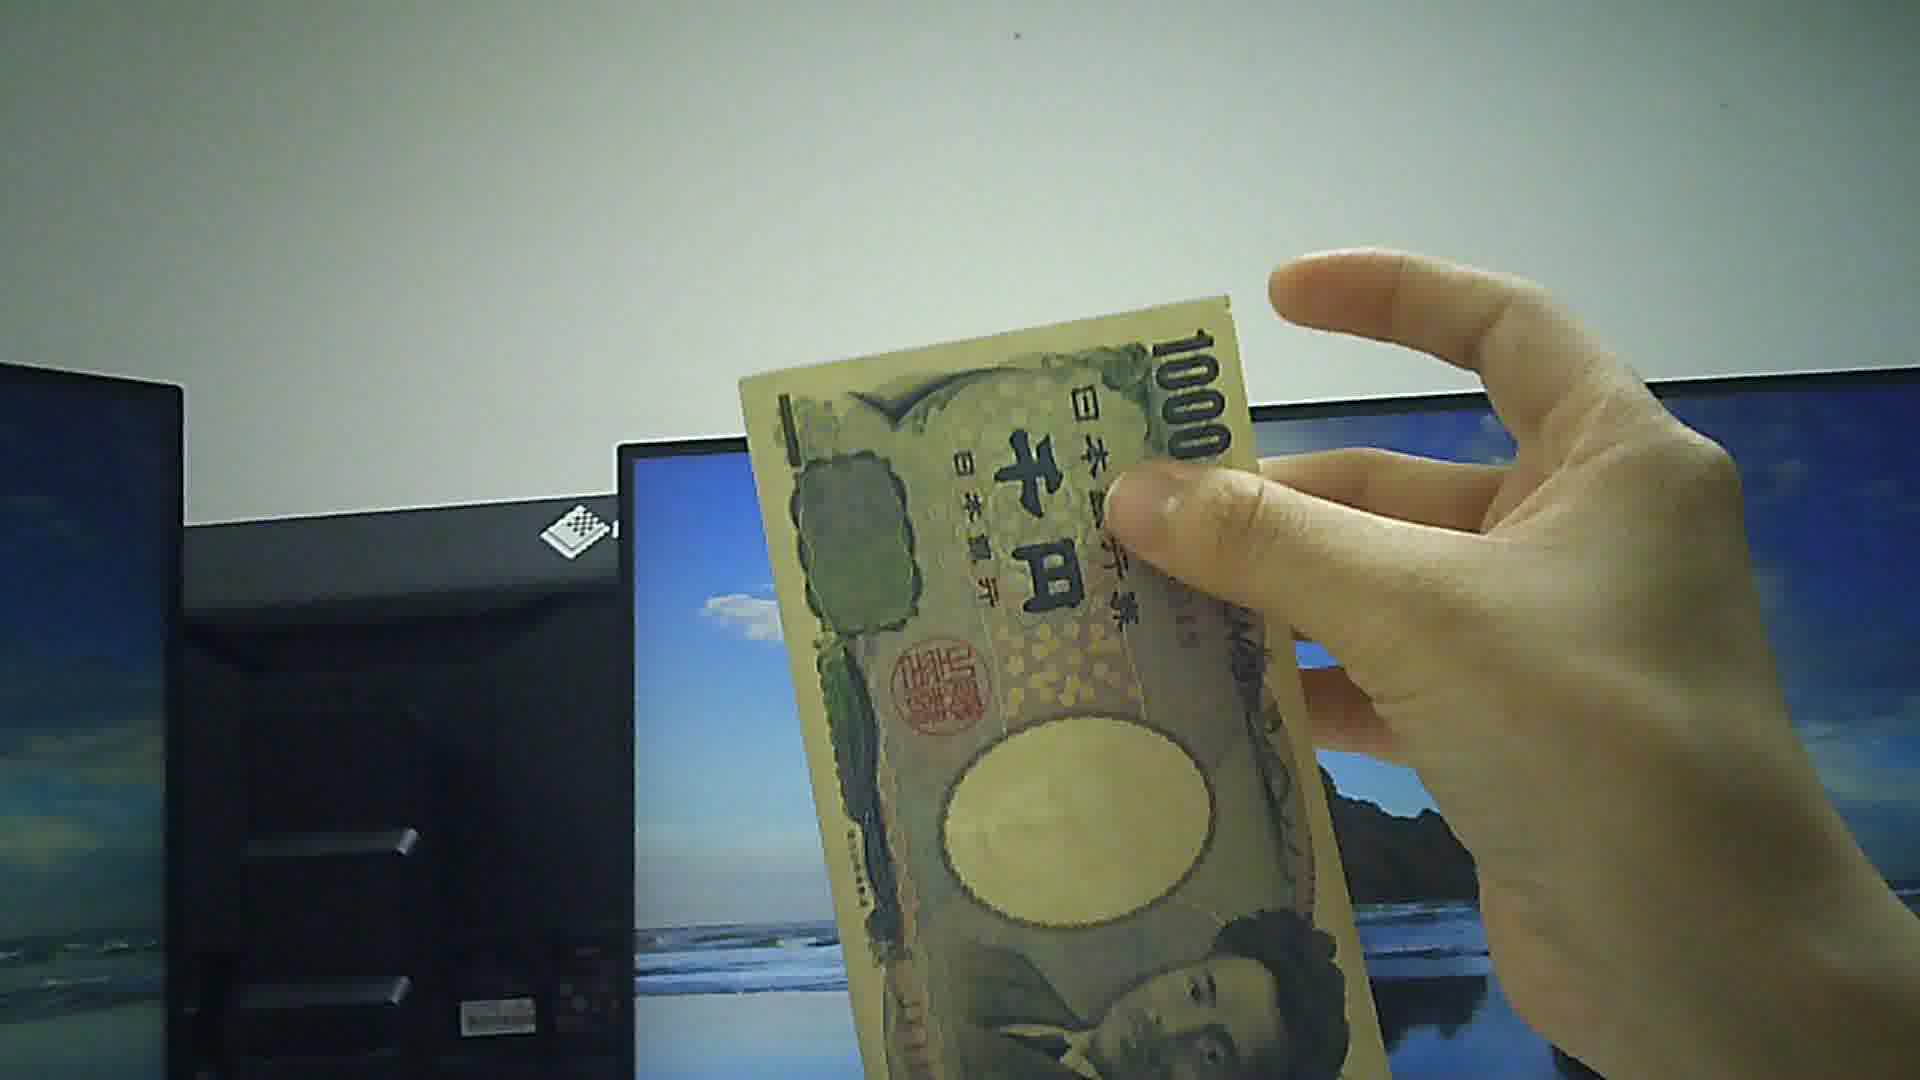1,000 Yen: (737, 303, 1393, 1079)
